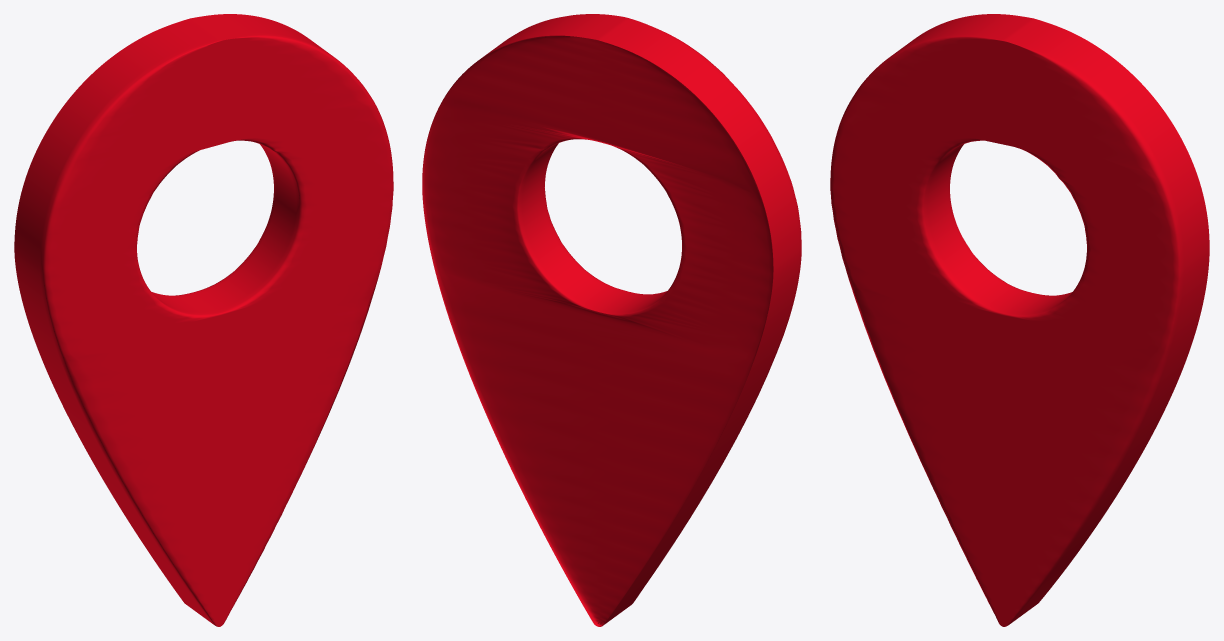
The model's file is asset.gltf.
3 renders of one model, left to right at view 1: azimuth 30°, elevation 25°; view 2: azimuth 150°, elevation 25°; view 3: azimuth 330°, elevation 25°, orthographic.
Visible parts, largest first — view 1: Curve_2; view 2: Curve_2; view 3: Curve_2.
Boxes of the visible parts, <box> form: Curve_2: <box>14,14,393,626</box>; Curve_2: <box>422,14,801,626</box>; Curve_2: <box>830,14,1209,626</box>.
Bounding box in the file's own units: 0.2761 × 0.4404 × 0.0416.
